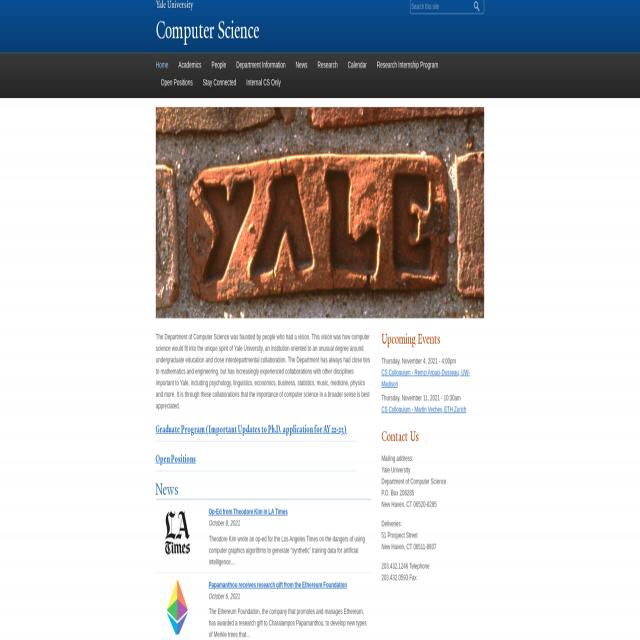button: (156, 109, 484, 318), (156, 576, 198, 640), (156, 507, 198, 561), (372, 56, 443, 74), (231, 56, 291, 74), (241, 74, 286, 91), (198, 74, 241, 91), (156, 74, 198, 91), (174, 56, 206, 74), (312, 56, 342, 74), (342, 56, 372, 74), (206, 56, 232, 74), (151, 56, 173, 74), (290, 56, 312, 74), (473, 0, 481, 13)
field: (410, 0, 484, 13)
